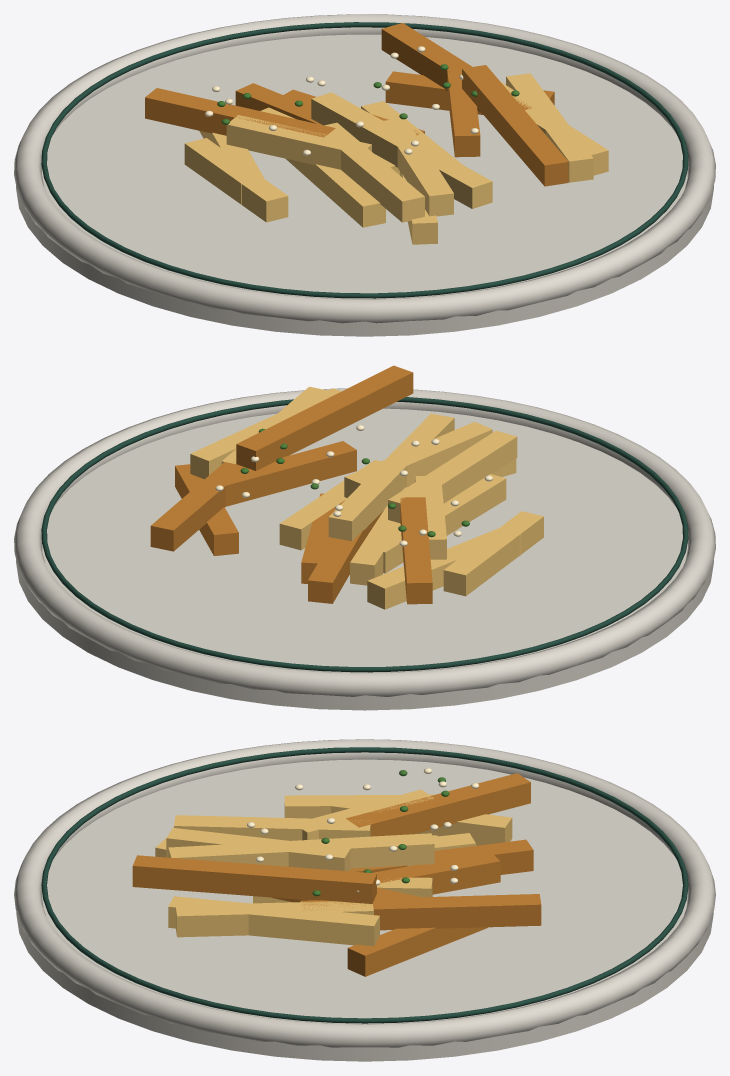
Rendered from fries-small.glb.
The picture shows the model from 3 angles, top to bottom: view 1: azimuth 30°, elevation 25°; view 2: azimuth 150°, elevation 25°; view 3: azimuth 270°, elevation 25°; orthographic projection.
Parts seen in each view (by area): view 1: Morsel original fries small; view 2: Morsel original fries small; view 3: Morsel original fries small.
Boxes of the visible parts, bbox=[...] form: Morsel original fries small: bbox=[14, 14, 715, 336]; Morsel original fries small: bbox=[14, 365, 715, 710]; Morsel original fries small: bbox=[14, 739, 715, 1061].
Size of the model in its own units: 3.02 by 0.4325 by 3.02.
